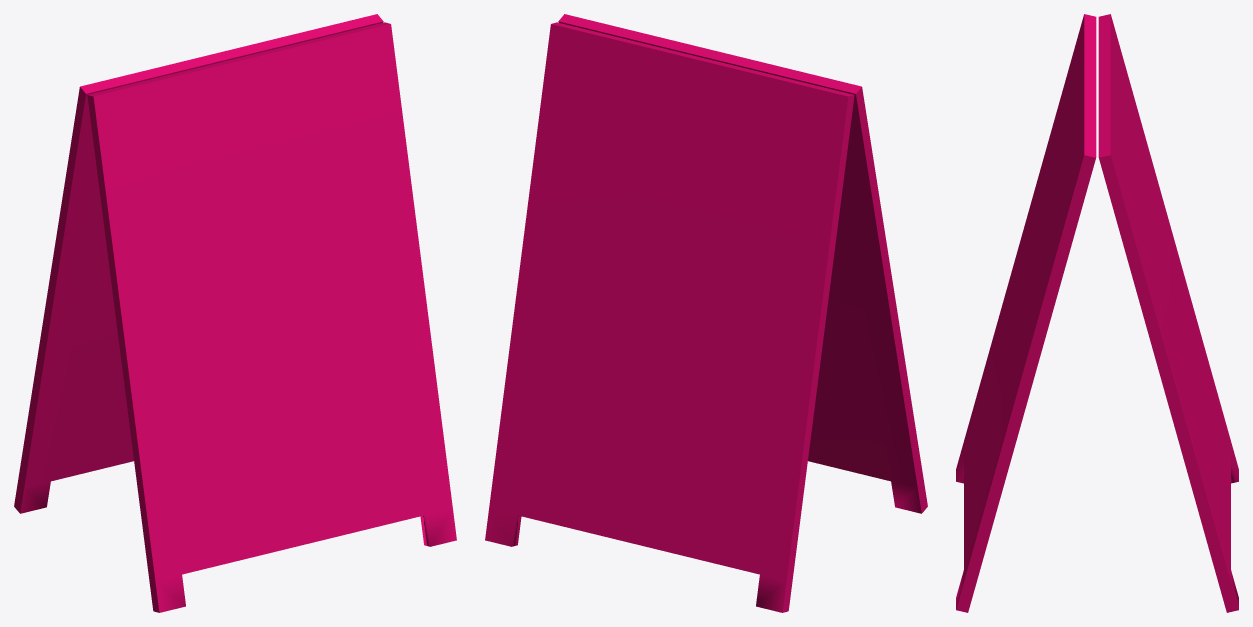
The model's file is Commercials_Bilboard_06_Lod0.fbx.
3 renders of one model, left to right at view 1: azimuth 30°, elevation 25°; view 2: azimuth 150°, elevation 25°; view 3: azimuth 270°, elevation 25°, orthographic. The views are drawn at different scales.
Visible parts, largest first — view 1: Commercials_Bilboard_06_Lod0; view 2: Commercials_Bilboard_06_Lod0; view 3: Commercials_Bilboard_06_Lod0.
Part boxes in pixels (x1,y1,x2,y2): Commercials_Bilboard_06_Lod0: (14, 14, 456, 612); Commercials_Bilboard_06_Lod0: (485, 14, 927, 612); Commercials_Bilboard_06_Lod0: (956, 14, 1238, 612).
Bounding box in the file's own units: 74.48 × 113 × 63.06.
